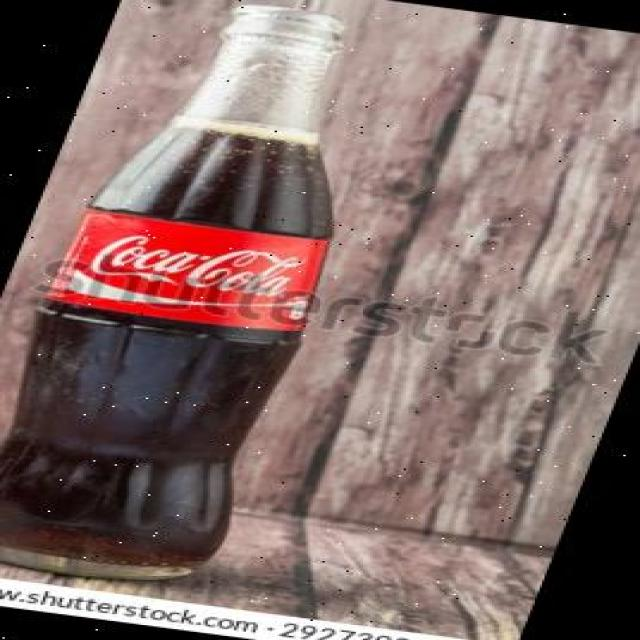coca-cola: (0, 0, 451, 600)
